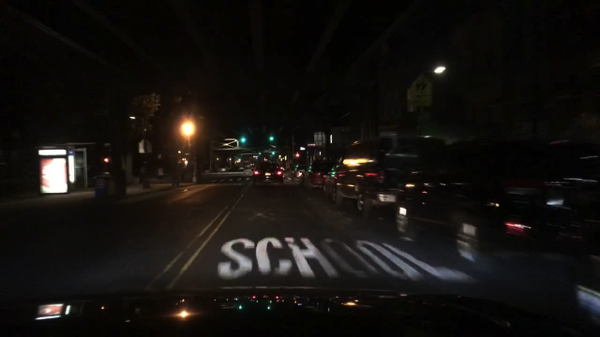car: (393, 134, 599, 265), (334, 133, 447, 220), (303, 160, 339, 191), (250, 162, 284, 189), (322, 162, 342, 203), (298, 165, 311, 186), (293, 164, 309, 179), (280, 164, 286, 172), (243, 163, 251, 169), (219, 169, 227, 173), (238, 166, 244, 170), (250, 163, 255, 167)
traffic light: (103, 157, 109, 163), (269, 135, 274, 141), (241, 137, 245, 142), (238, 158, 241, 162), (272, 151, 275, 154), (258, 152, 261, 155)
traffic sign: (407, 75, 433, 96), (407, 96, 432, 106), (139, 139, 153, 154), (306, 142, 317, 147)
